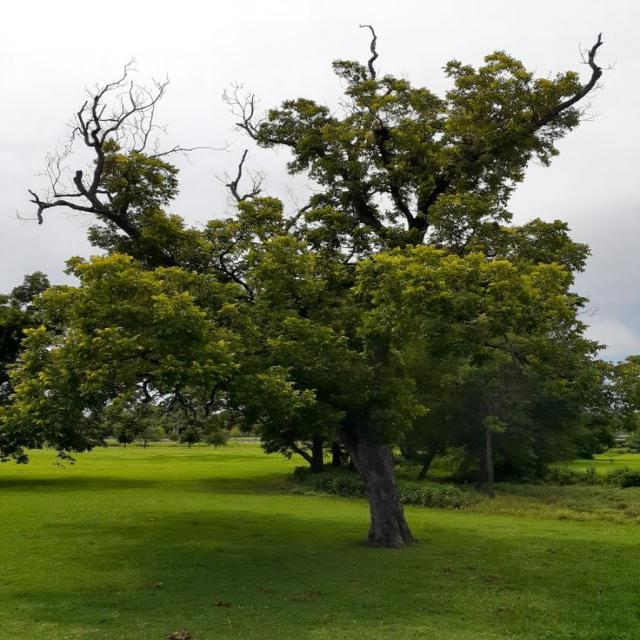Acacia: (53, 74, 593, 540)
